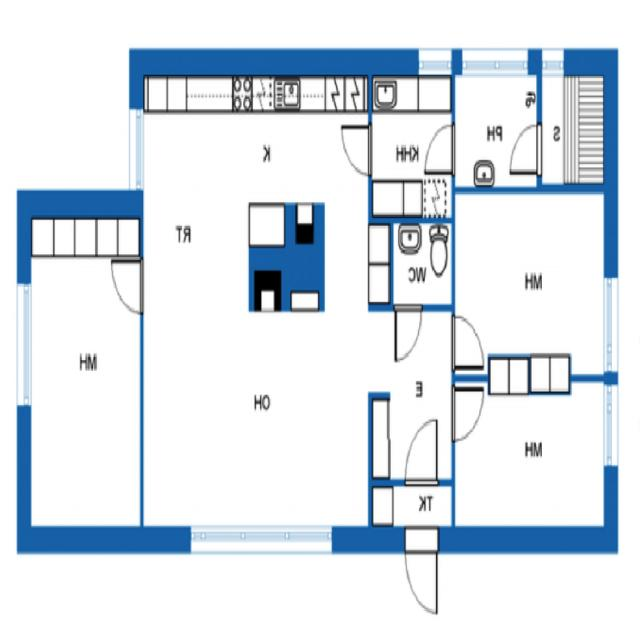door: (406, 526, 437, 610), (406, 421, 436, 485), (111, 260, 143, 314), (451, 389, 483, 440), (452, 316, 482, 366), (512, 125, 542, 173), (426, 125, 455, 173), (396, 304, 421, 358), (344, 127, 372, 173)
